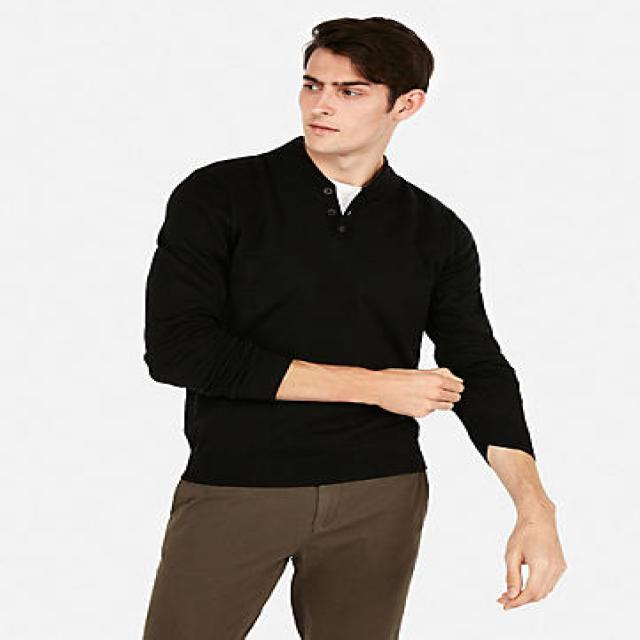mobile_phonerotation: (138, 14, 568, 637)
